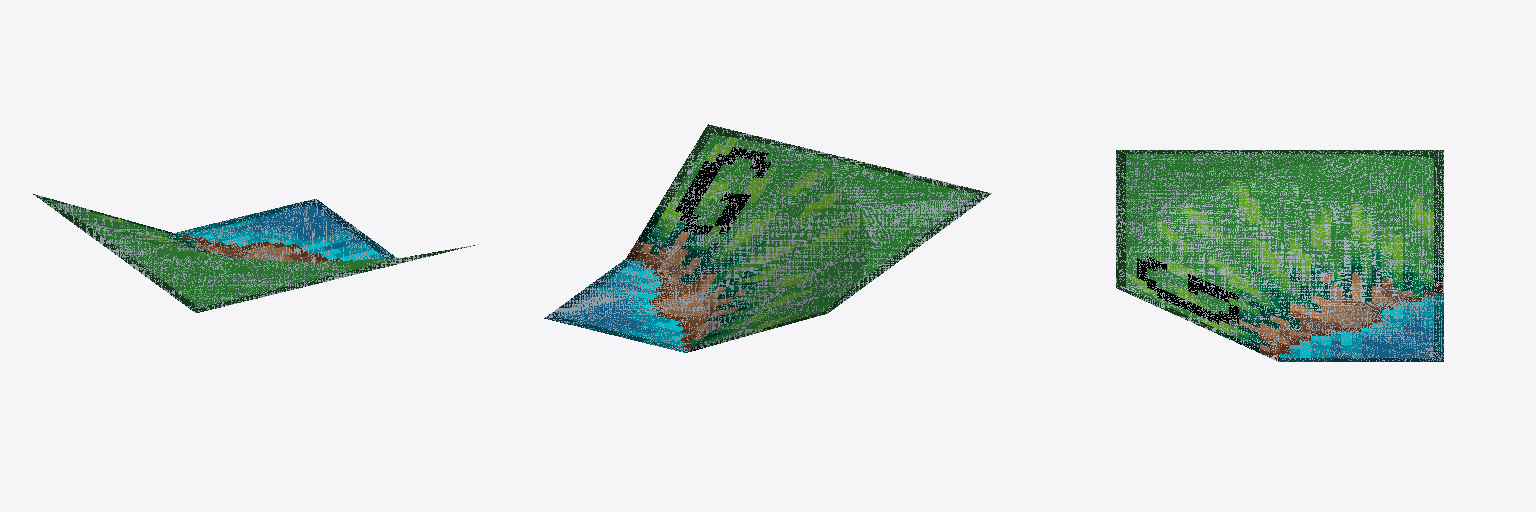
3 views of the same model, side by side, from view 1: azimuth 30°, elevation 25°; view 2: azimuth 150°, elevation 25°; view 3: azimuth 270°, elevation 25° (orthographic).
Visible parts, largest first — view 1: Mesh1 Model; view 2: Mesh1 Model; view 3: Mesh1 Model.
Part boxes in pixels (x1,y1,x2,y2): Mesh1 Model: (33,194,478,312); Mesh1 Model: (544,124,991,352); Mesh1 Model: (1116,150,1443,361).
Size of the model in its own units: 32 by 8 by 32.
Materials: 2 (1 with a texture image).